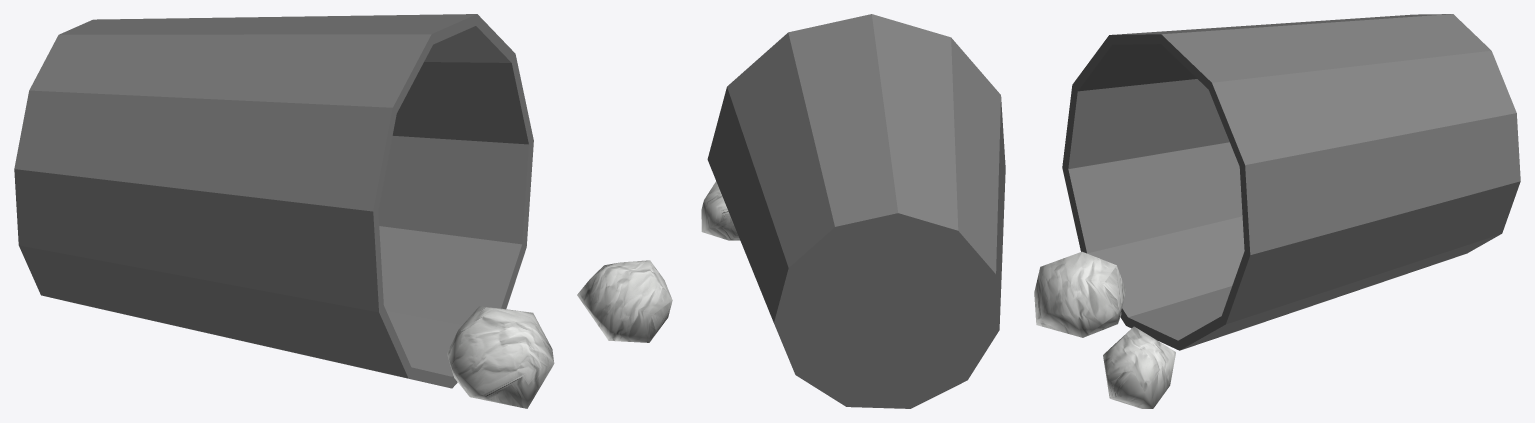
The model's file is bin_a.fbx.
3 views of the same model, side by side, from view 1: azimuth 30°, elevation 25°; view 2: azimuth 150°, elevation 25°; view 3: azimuth 270°, elevation 25° (orthographic). The views are drawn at different scales.
Visible parts, largest first — view 1: bin_a; view 2: bin_a; view 3: bin_a.
Part boxes in pixels (x1=…): bin_a: x1=14, y1=14, x2=672, y2=408; bin_a: x1=701, y1=14, x2=1005, y2=408; bin_a: x1=1034, y1=14, x2=1520, y2=408.
Bounding box in the file's own units: 19.68 × 12.52 × 18.93.
Materials: 2 (1 with a texture image).
